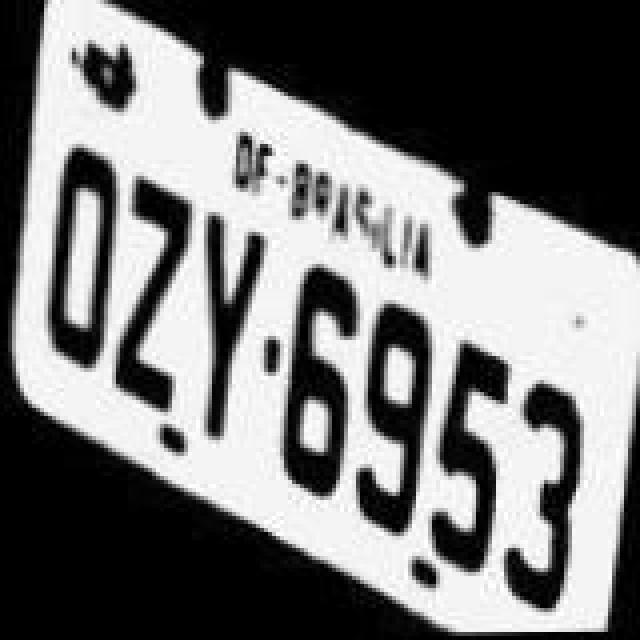3: (494, 378, 586, 618)
5: (420, 334, 512, 578)
6: (272, 260, 368, 500)
9: (348, 302, 432, 542)
O: (44, 138, 132, 370)
Y: (186, 210, 274, 442)
Z: (112, 170, 196, 414)
